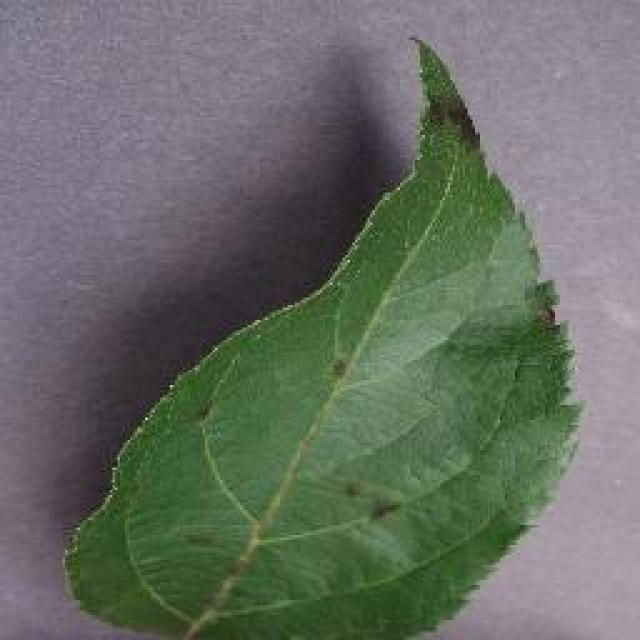apple scab disease: (60, 32, 585, 638)
